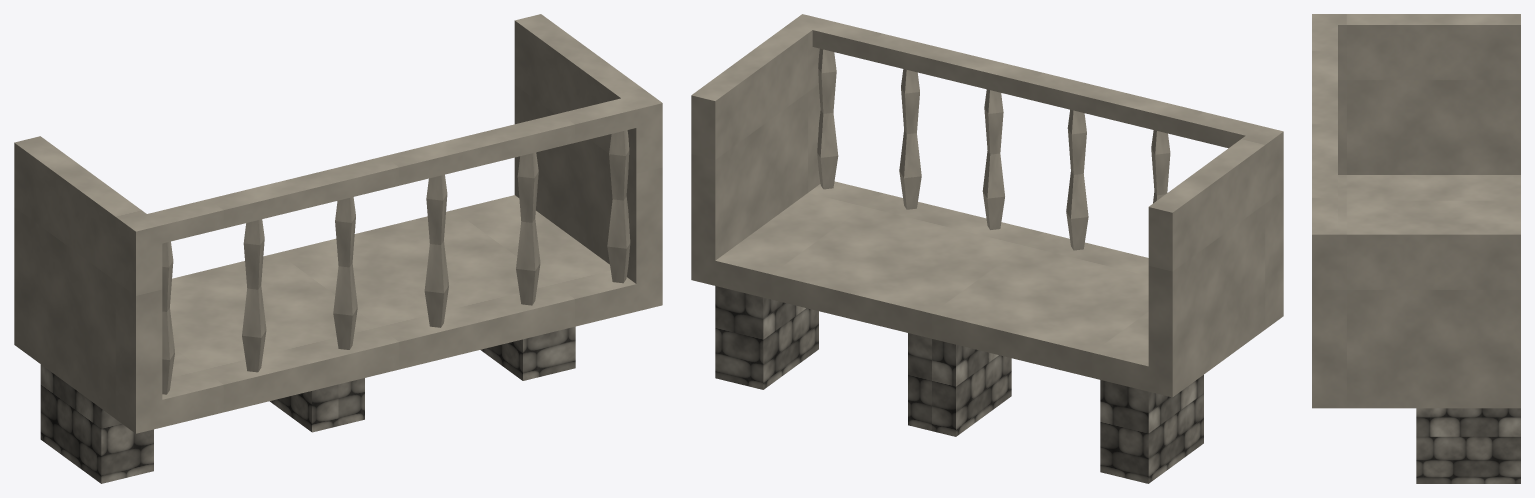
The model's file is Facade_Dwarf_Balcony_1_LOD1.gltf.
3 renders of one model, left to right at view 1: azimuth 30°, elevation 25°; view 2: azimuth 150°, elevation 25°; view 3: azimuth 270°, elevation 25°, orthographic. The views are drawn at different scales.
Parts seen in each view (by area): view 1: Facade_Dwarf_Balcony_1_LOD1; view 2: Facade_Dwarf_Balcony_1_LOD1; view 3: Facade_Dwarf_Balcony_1_LOD1.
Part boxes in pixels (bbox=[...]): Facade_Dwarf_Balcony_1_LOD1: bbox=[14, 14, 662, 483]; Facade_Dwarf_Balcony_1_LOD1: bbox=[691, 14, 1283, 483]; Facade_Dwarf_Balcony_1_LOD1: bbox=[1312, 14, 1520, 483].
Size of the model in its own units: 3 by 1.65 by 1.2.
2 materials, 2 textured.
